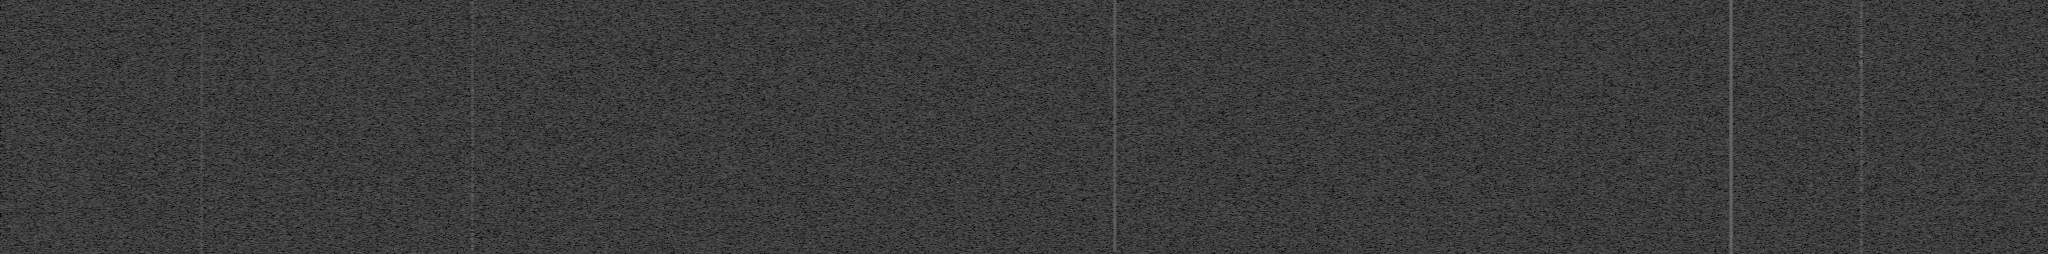wv_am: (199, 0, 204, 254)
wv_cw: (1728, 0, 1735, 254), (1112, 0, 1117, 251)
wv_lsb: (470, 127, 475, 254), (470, 1, 475, 126)
wv_usb: (1859, 1, 1864, 254)
